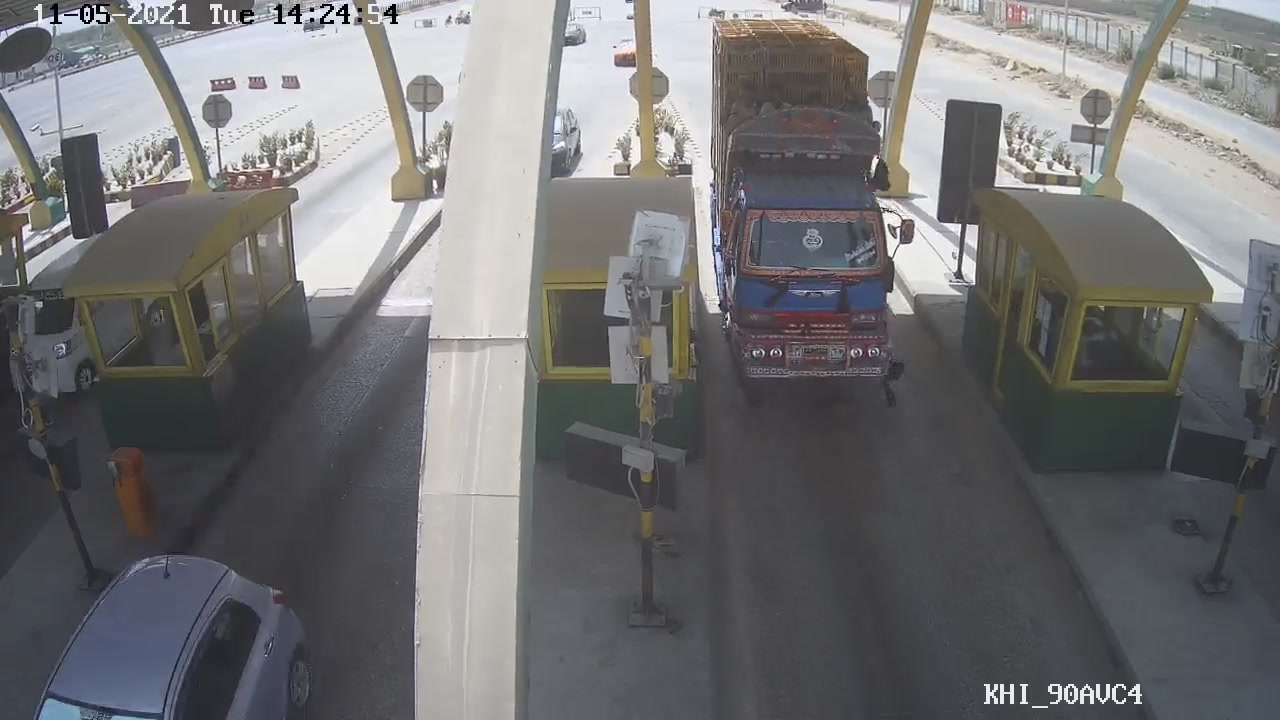F5: (705, 23, 915, 407)
